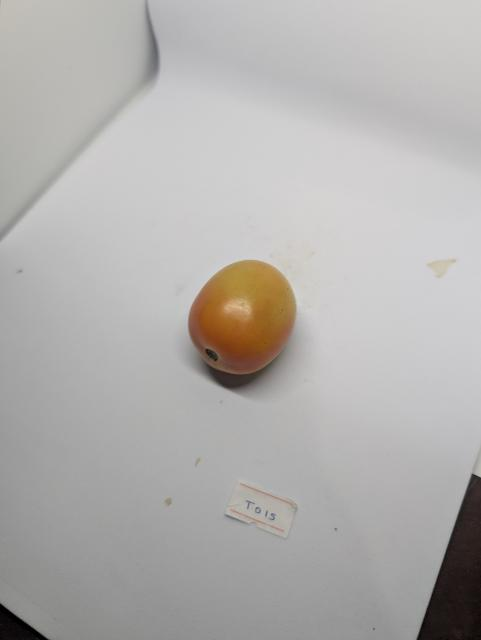turning: (185, 251, 302, 388)
